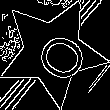O_NW: (19, 20, 85, 83)
